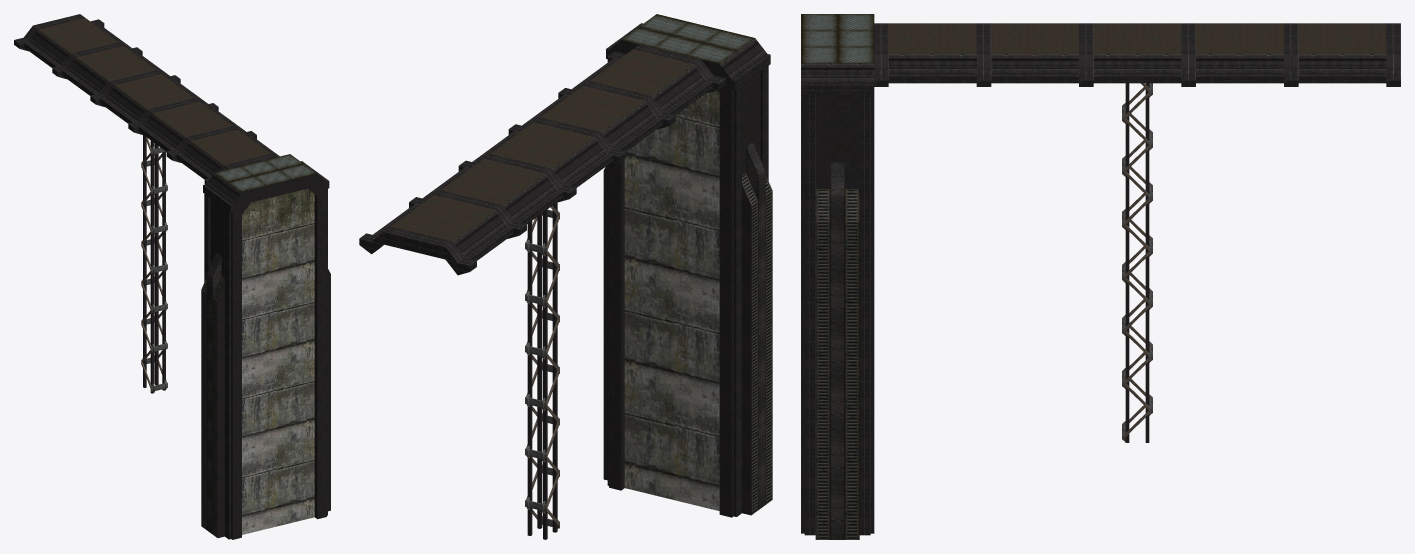
The model's file is bridge1.fbx.
The picture shows the model from 3 angles, left to right: view 1: azimuth 30°, elevation 25°; view 2: azimuth 150°, elevation 25°; view 3: azimuth 270°, elevation 25°; orthographic projection. The views are drawn at different scales.
Visible parts, largest first — view 1: Object; view 2: Object; view 3: Object.
Part boxes in pixels (x1,y1,x2,y2): Object: (14,14,330,539); Object: (359,14,772,539); Object: (801,14,1400,539).
Size of the model in its own units: 2400 by 7000 by 8200.
